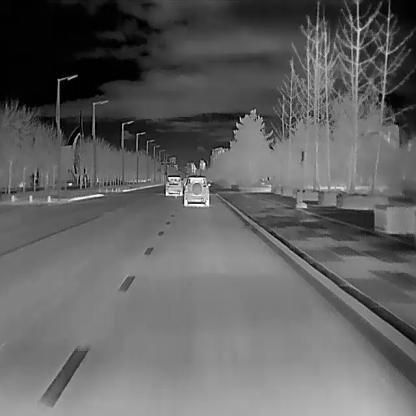car: (183, 175, 210, 207), (165, 175, 183, 196)
